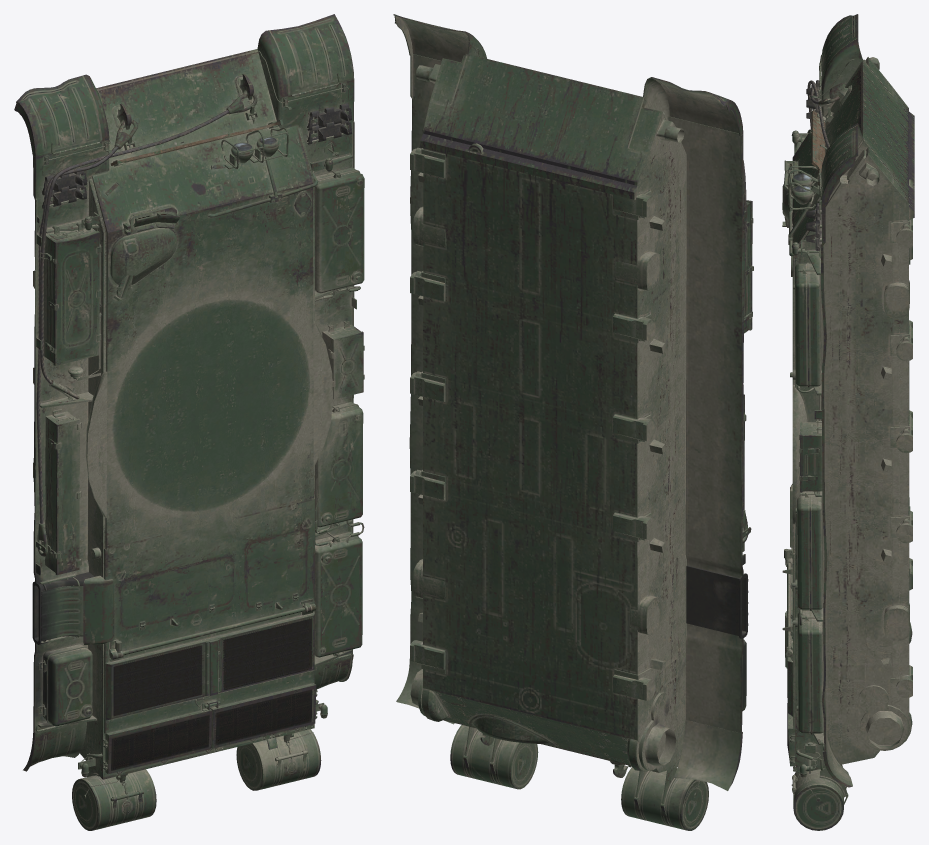
The model's file is Hull.glb.
The picture shows the model from 3 angles, left to right: view 1: azimuth 30°, elevation 25°; view 2: azimuth 150°, elevation 25°; view 3: azimuth 270°, elevation 25°; orthographic projection. The views are drawn at different scales.
Visible parts, largest first — view 1: set_0_group_0; view 2: set_0_group_0; view 3: set_0_group_0.
Boxes of the visible parts, left/top/right/bottom form: set_0_group_0: left=14, top=14, right=364, bottom=830; set_0_group_0: left=393, top=14, right=753, bottom=830; set_0_group_0: left=782, top=14, right=914, bottom=830.
Bounding box in the file's own units: 2.87 × 6.22 × 1.07.
Materials: 1 (1 with a texture image).
